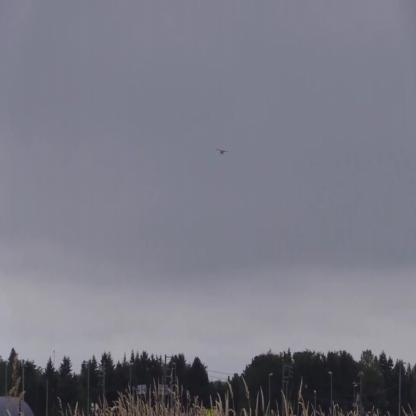CIV_Plane: (216, 145, 231, 161)
